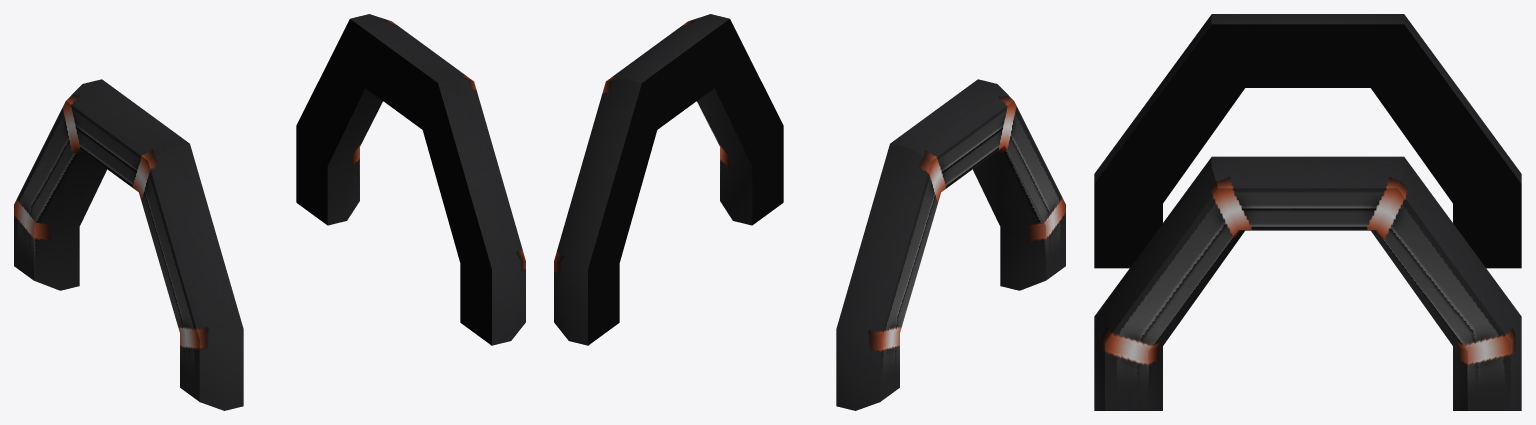
Rendered from _heavy_Armor_2.FBX.
3 renders of one model, left to right at view 1: azimuth 30°, elevation 25°; view 2: azimuth 150°, elevation 25°; view 3: azimuth 270°, elevation 25°, orthographic. The views are drawn at different scales.
Parts seen in each view (by area): view 1: _heavy_Armor_2; view 2: _heavy_Armor_2; view 3: _heavy_Armor_2.
Part boxes in pixels (box(x1,y1,x2,y2)): _heavy_Armor_2: box(14, 14, 525, 410); _heavy_Armor_2: box(554, 14, 1065, 410); _heavy_Armor_2: box(1094, 14, 1521, 410).
Size of the model in its own units: 1.34 by 0.8739 by 1.39.
